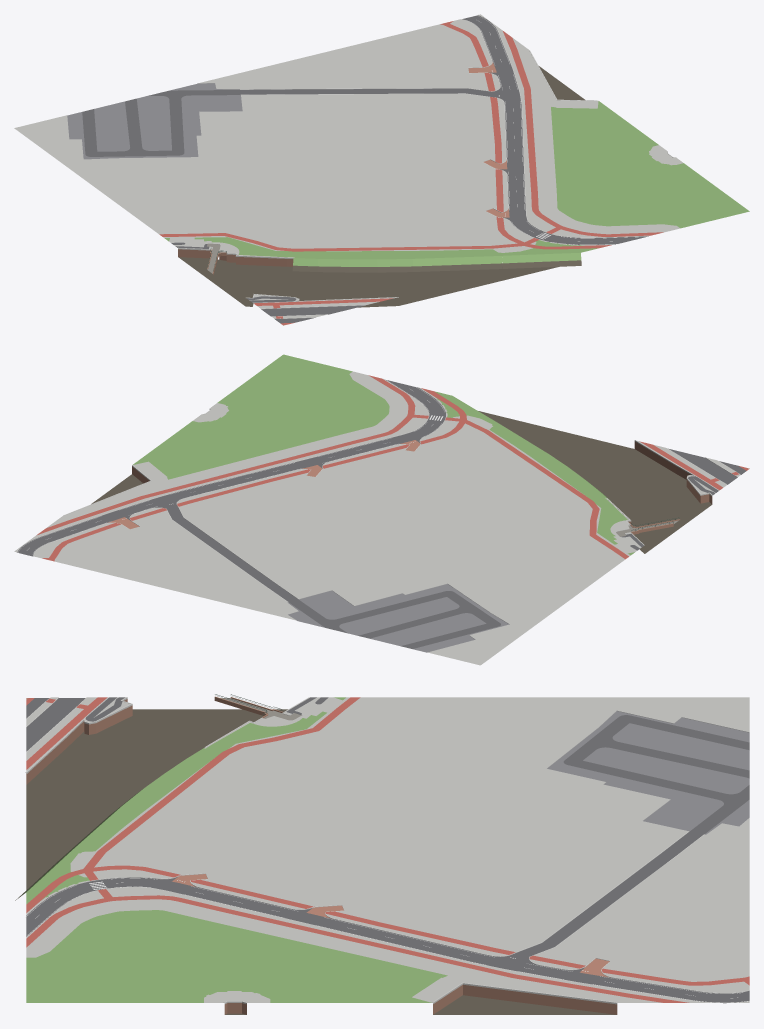
The model's file is ground_10_8.glb.
3 renders of one model, top to bottom at view 1: azimuth 30°, elevation 25°; view 2: azimuth 150°, elevation 25°; view 3: azimuth 270°, elevation 25°, orthographic. The views are drawn at different scales.
Parts seen in each view (by area): view 1: ground_10_8; view 2: ground_10_8; view 3: ground_10_8.
Boxes of the visible parts, x1,y1,x2,y2 form: ground_10_8: (14,14,749,325); ground_10_8: (14,354,749,665); ground_10_8: (15,694,749,1014).
Size of the model in its own units: 200 by 4.6 by 204.
